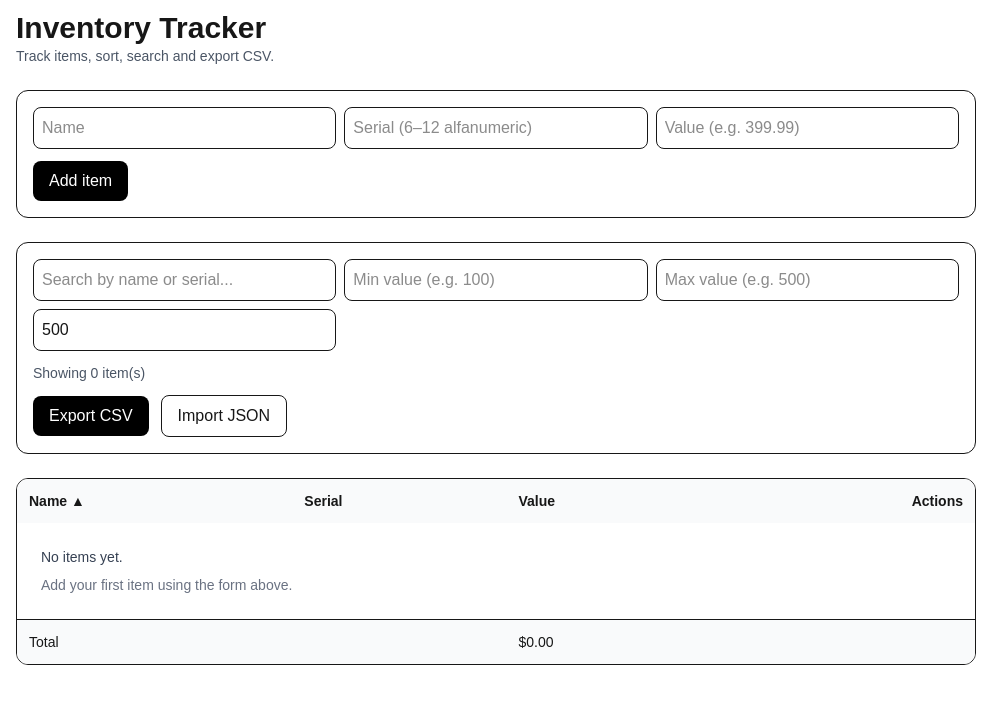
Inventory Page › shows error for invalid value
This screenshot has width=993, height=714.
Step 1. Type "Xbox One" into the field with placeholder "Name" → (185, 128), box [33,107,336,149]
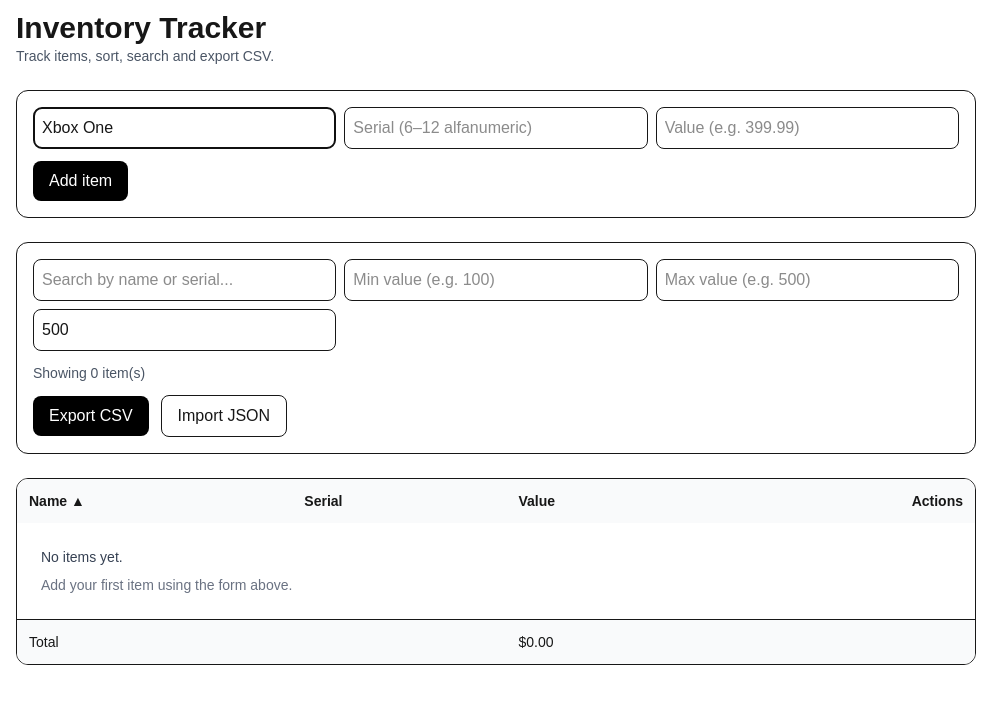
Step 2. Type "ABC123" into the field with placeholder "Serial (6–12 alfanumeric)" → (496, 128), box [344,107,648,149]
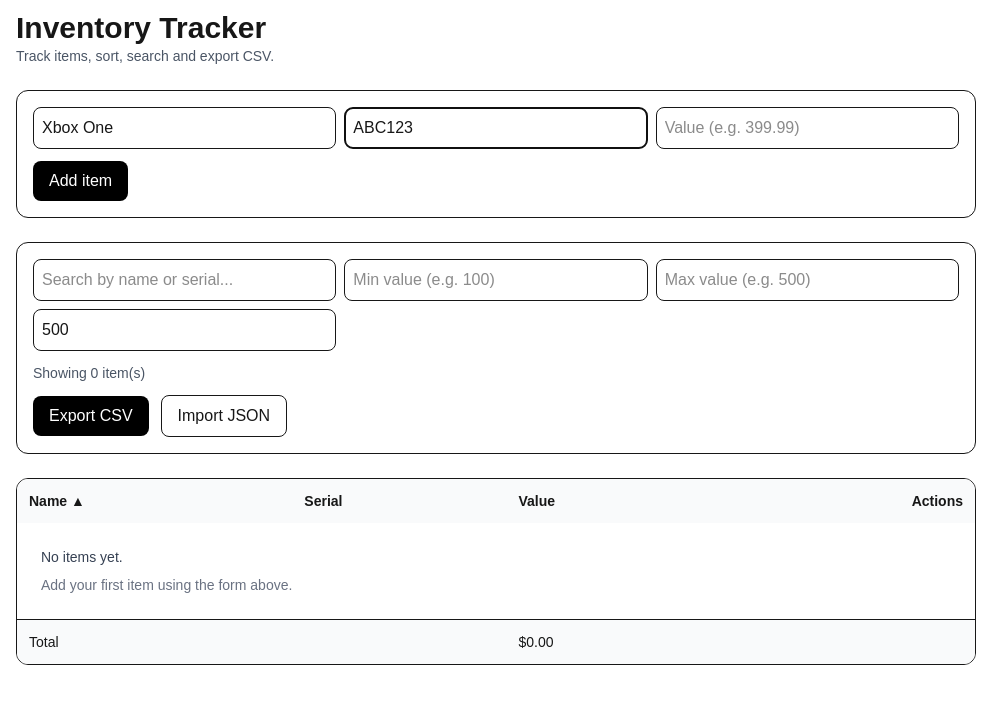
Step 3. Type "abc" into the field with placeholder "Value (e.g. 399.99)" → (807, 128), box [656,107,959,149]
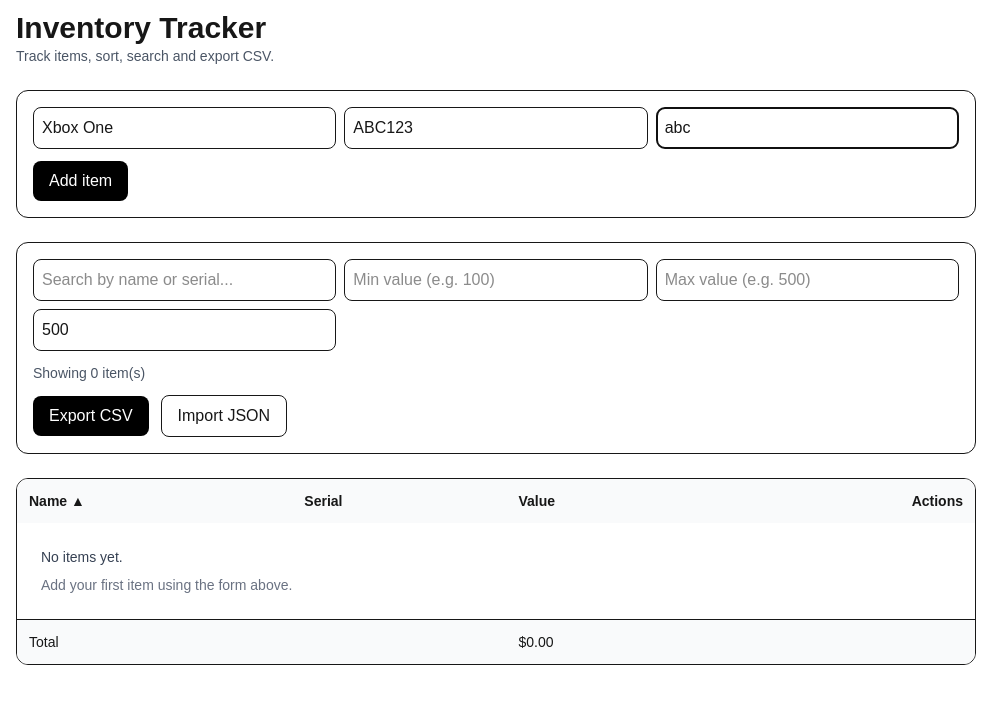
Step 4. Click the button "Add item" → (81, 181), box [33,161,128,201]
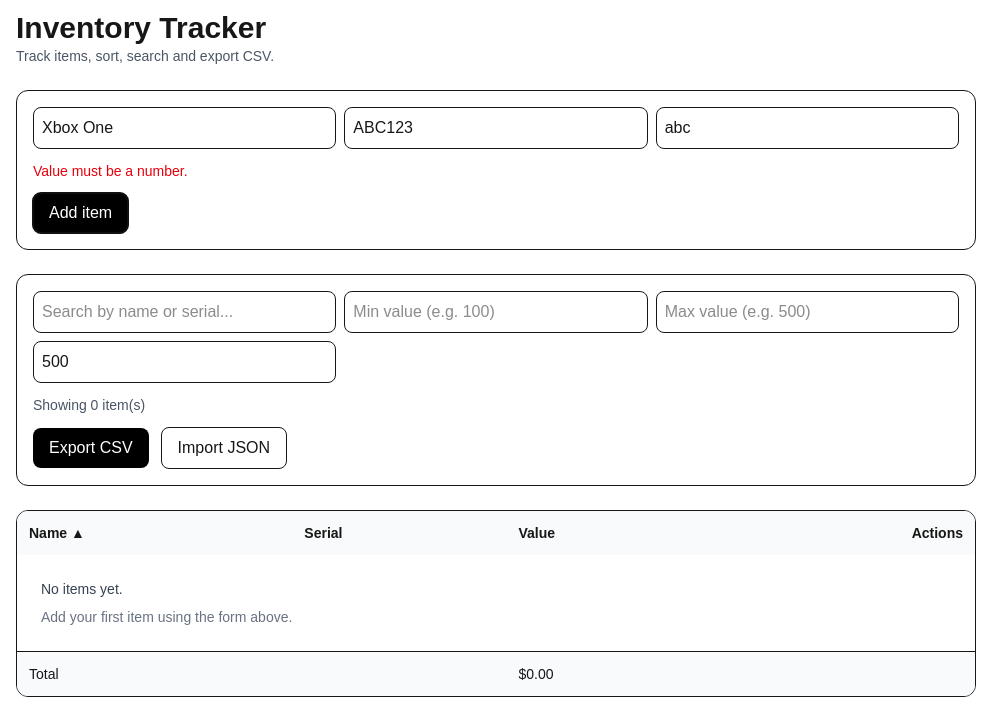
Now the text "Value must be a number." is shown, box [33,163,188,179]
